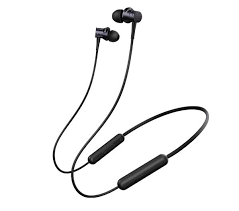earphone: (51, 3, 210, 202)
